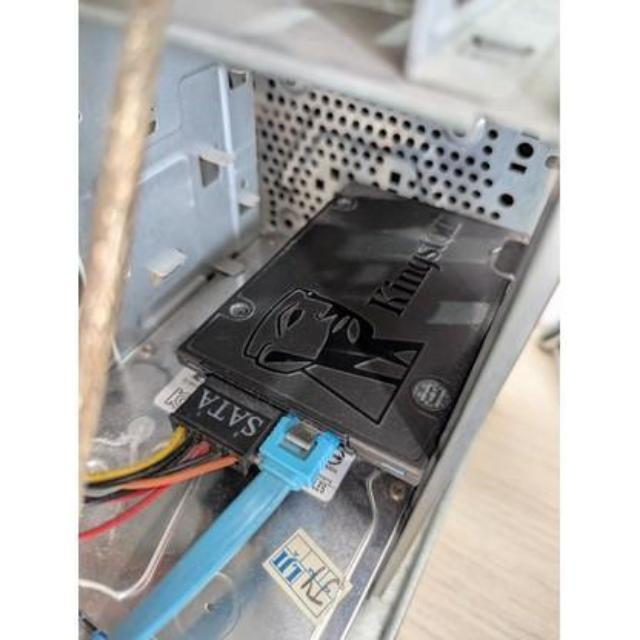DISK: (175, 170, 534, 487)
